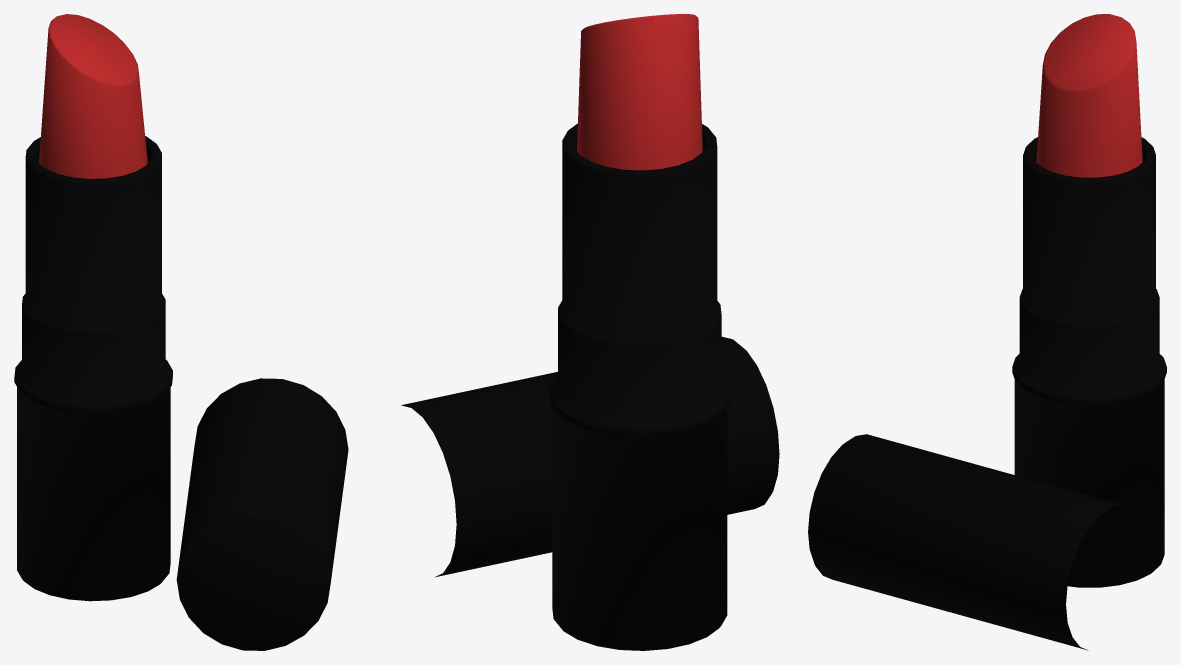
The model's file is 1ff40f65-81ae-4ffd-a6c7-aadc3543bf2c.glb.
3 views of the same model, side by side, from view 1: azimuth 30°, elevation 25°; view 2: azimuth 150°, elevation 25°; view 3: azimuth 270°, elevation 25° (orthographic). The views are drawn at different scales.
Visible parts, largest first — view 1: Lipstick_Q.004; view 2: Lipstick_Q.004; view 3: Lipstick_Q.004.
Boxes of the visible parts, x1,y1,x2,y2 form: Lipstick_Q.004: (14,14,348,650); Lipstick_Q.004: (401,14,779,650); Lipstick_Q.004: (808,14,1166,650).
Size of the model in its own units: 0.0959 by 0.1603 by 0.0987.
Materials: 1 (1 with a texture image).
